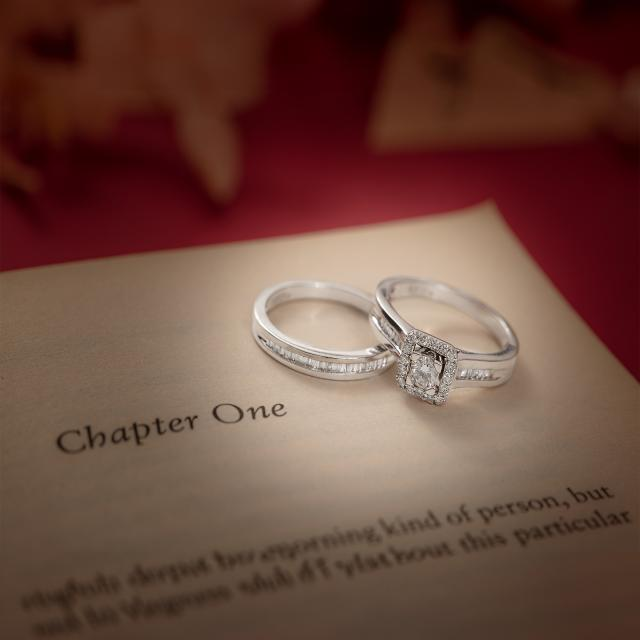Ring: (250, 277, 399, 384)
